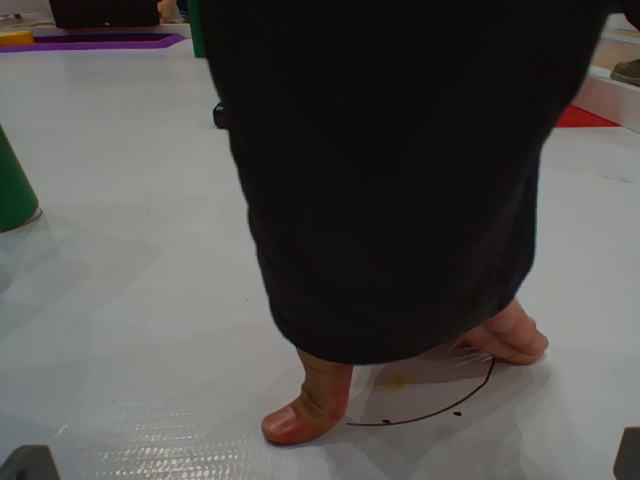kuang: (1, 26, 186, 50)
yellow: (1, 29, 39, 47)
zhuzi: (1, 120, 50, 228), (188, 3, 216, 56)
